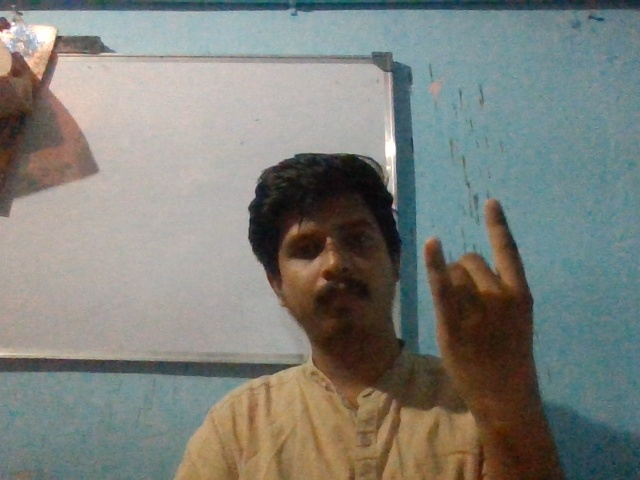Apana: (418, 196, 551, 406)
